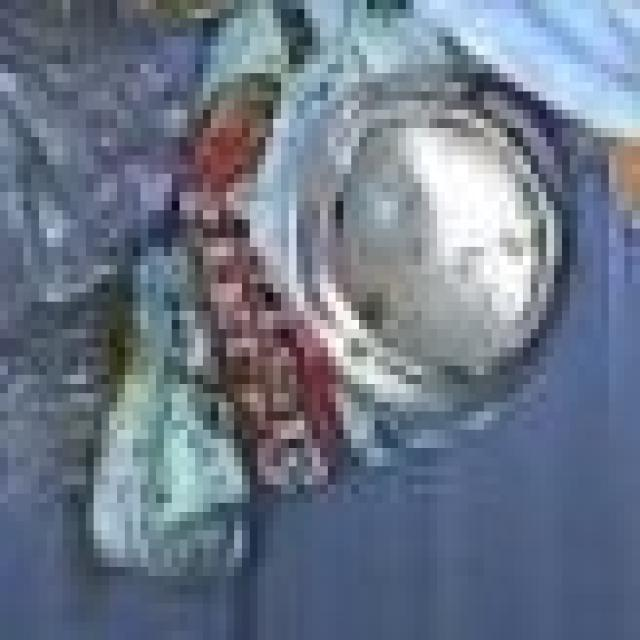litter: (71, 27, 621, 592)
